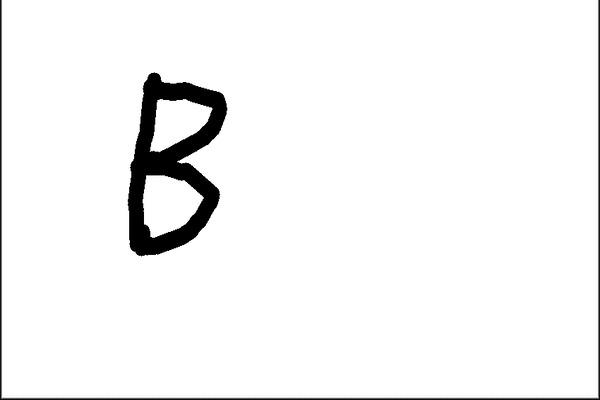B: (118, 64, 234, 262)
